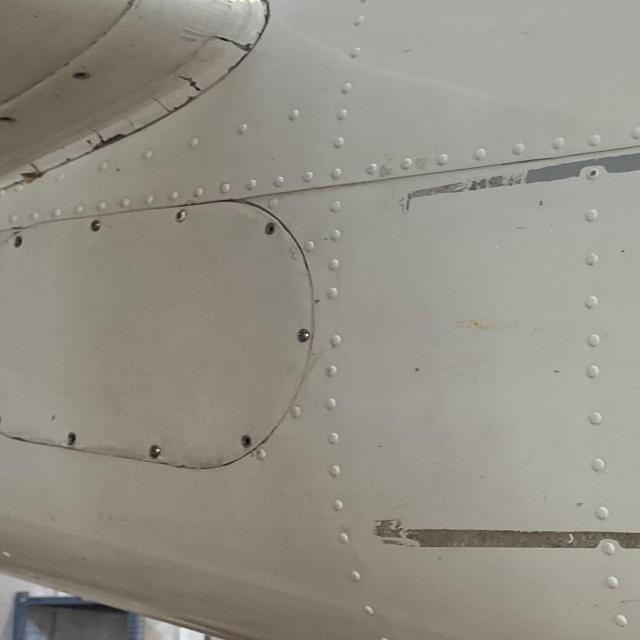Missing-head: (238, 434, 255, 452), (11, 233, 26, 249), (64, 431, 78, 448), (262, 221, 278, 235), (71, 71, 91, 80)
